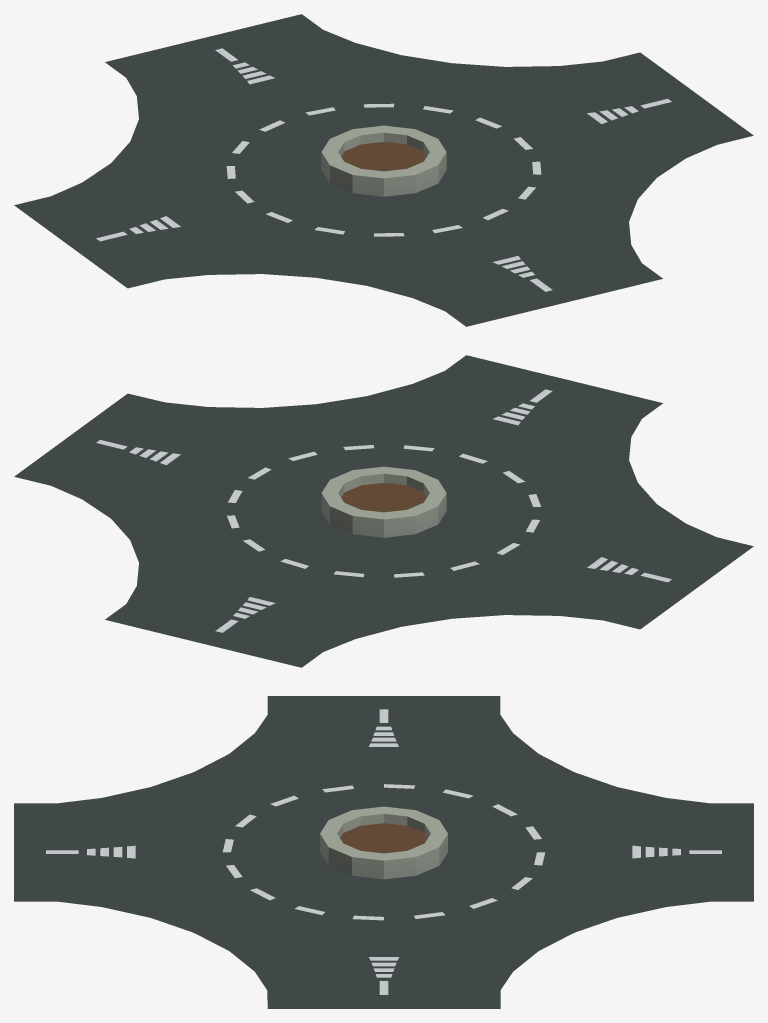
The model's file is Road_2_115.fbx.
3 renders of one model, top to bottom at view 1: azimuth 30°, elevation 25°; view 2: azimuth 150°, elevation 25°; view 3: azimuth 270°, elevation 25°, orthographic. The views are drawn at different scales.
Parts seen in each view (by area): view 1: Road_2_115; view 2: Road_2_115; view 3: Road_2_115.
Boxes of the visible parts, bbox=[...] form: Road_2_115: bbox=[14, 14, 753, 326]; Road_2_115: bbox=[14, 355, 753, 667]; Road_2_115: bbox=[14, 696, 753, 1008].
Size of the model in its own units: 2862 by 80.58 by 2862.
